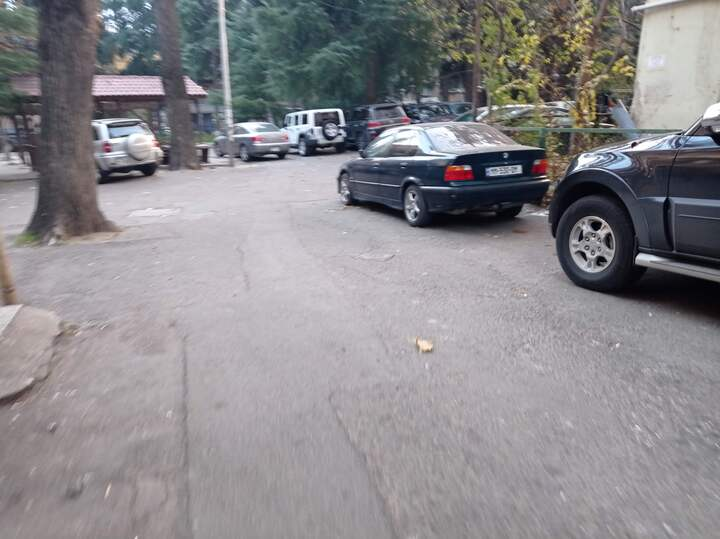plate: (483, 163, 523, 177), (115, 157, 126, 165), (269, 146, 280, 151)
